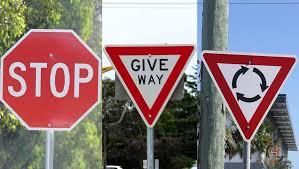giveway: (102, 42, 197, 127), (107, 73, 194, 110), (104, 39, 195, 71)
